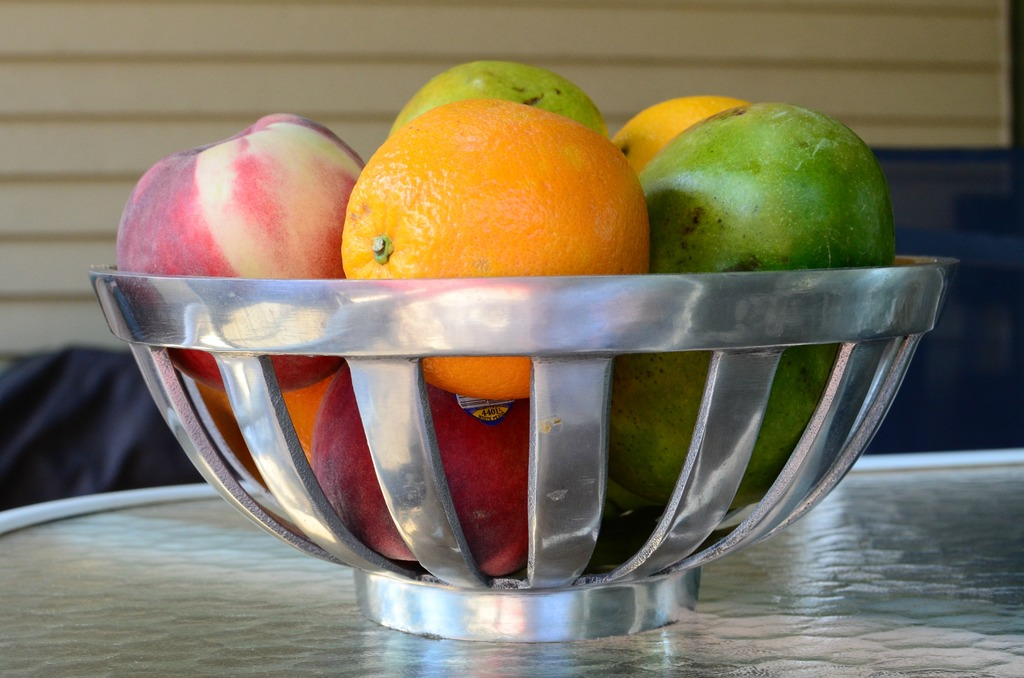Apple: (110, 126, 359, 343), (312, 362, 535, 580)
